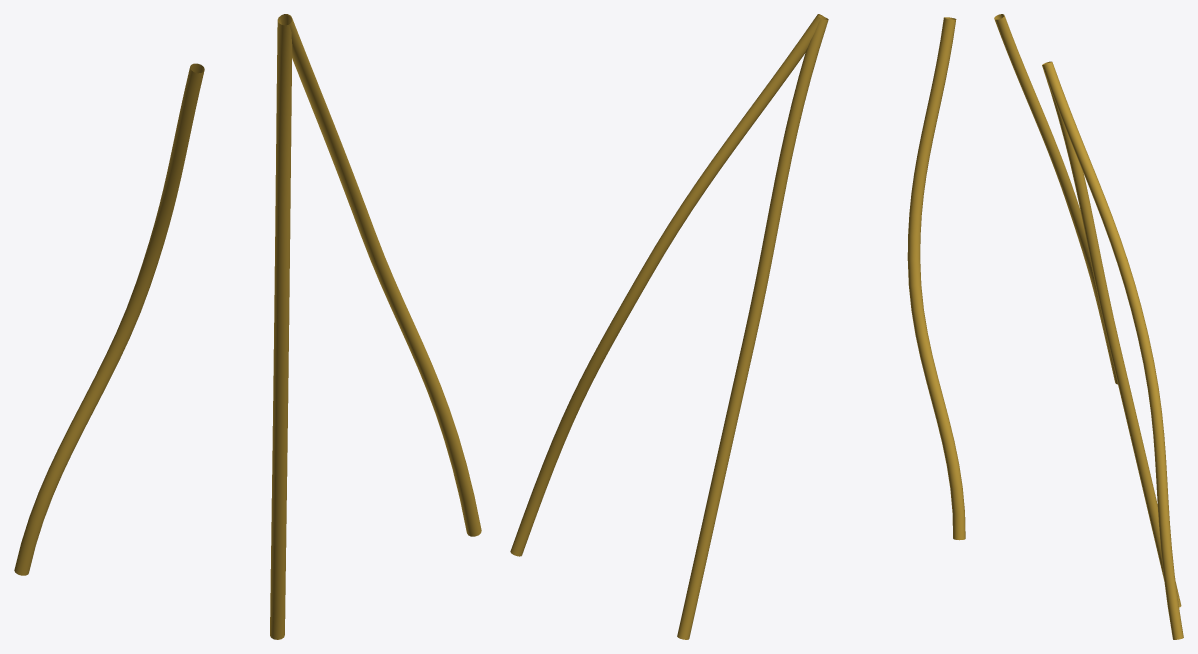
3 renders of one model, left to right at view 1: azimuth 30°, elevation 25°; view 2: azimuth 150°, elevation 25°; view 3: azimuth 270°, elevation 25°, orthographic. The views are drawn at different scales.
Parts seen in each view (by area): view 1: 左侧足底内侧神经趾足底总神经; view 2: 左侧足底内侧神经趾足底总神经; view 3: 左侧足底内侧神经趾足底总神经.
Boxes of the visible parts, x1,y1,x2,y2 form: 左侧足底内侧神经趾足底总神经: (14, 14, 481, 639); 左侧足底内侧神经趾足底总神经: (510, 14, 965, 639); 左侧足底内侧神经趾足底总神经: (994, 14, 1183, 639).
Size of the model in its own units: 0.0571 by 0.0765 by 0.0252.
